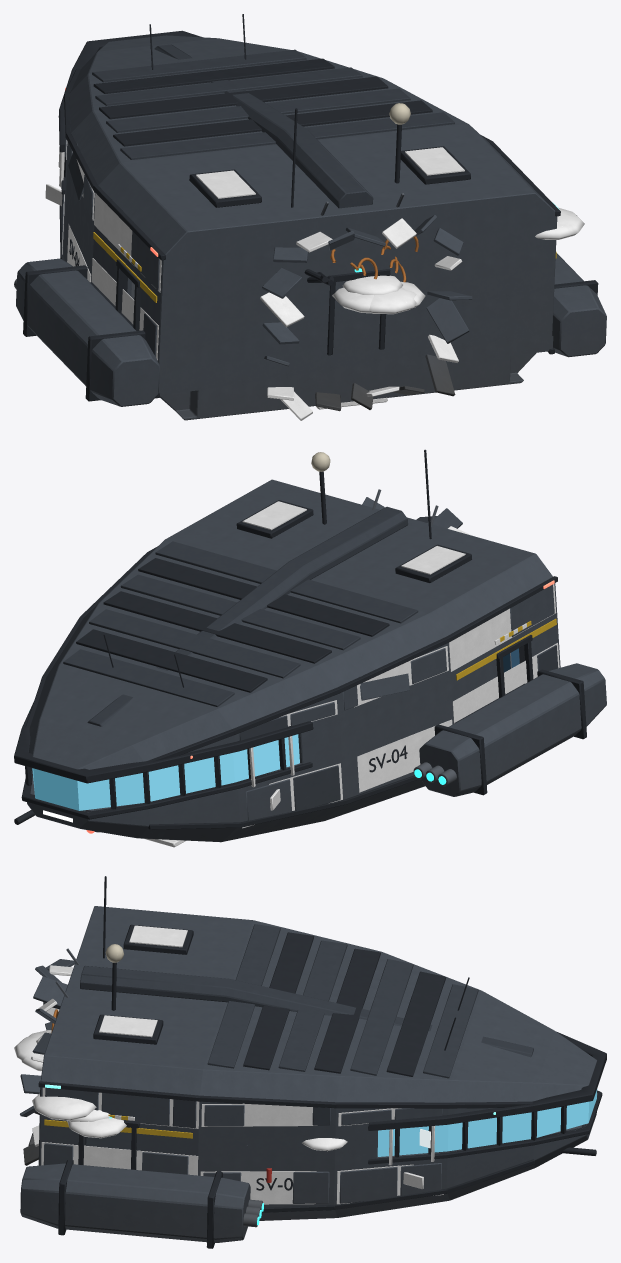
Rendered from sv04_bow.glb.
3 renders of one model, top to bottom at view 1: azimuth 30°, elevation 25°; view 2: azimuth 150°, elevation 25°; view 3: azimuth 270°, elevation 25°, orthographic. The views are drawn at different scales.
Visible parts, largest first — view 1: sv04_bow; view 2: sv04_bow; view 3: sv04_bow.
Part boxes in pixels (left/top/right/bottom): sv04_bow: left=14, top=14, right=606, bottom=420; sv04_bow: left=14, top=449, right=606, bottom=847; sv04_bow: left=14, top=876, right=606, bottom=1248.
Size of what is drawn, in the model's own units: 18.27 by 11.02 by 22.07.
71 materials, 37 textured.
